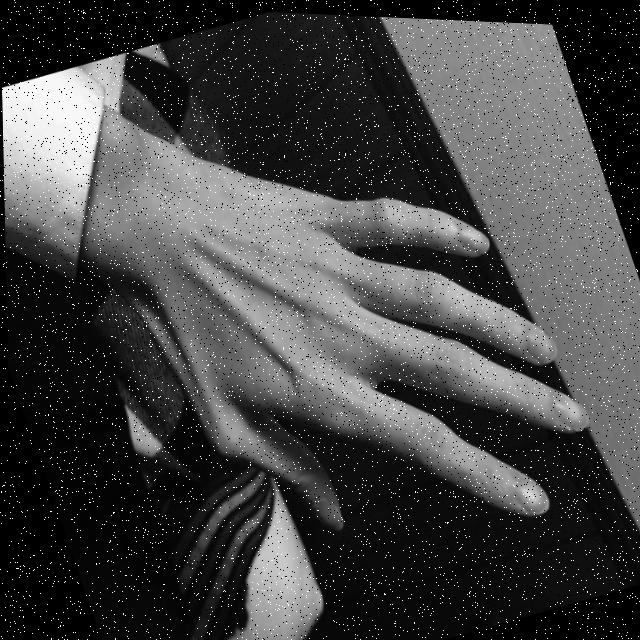hand: (87, 64, 615, 616)
